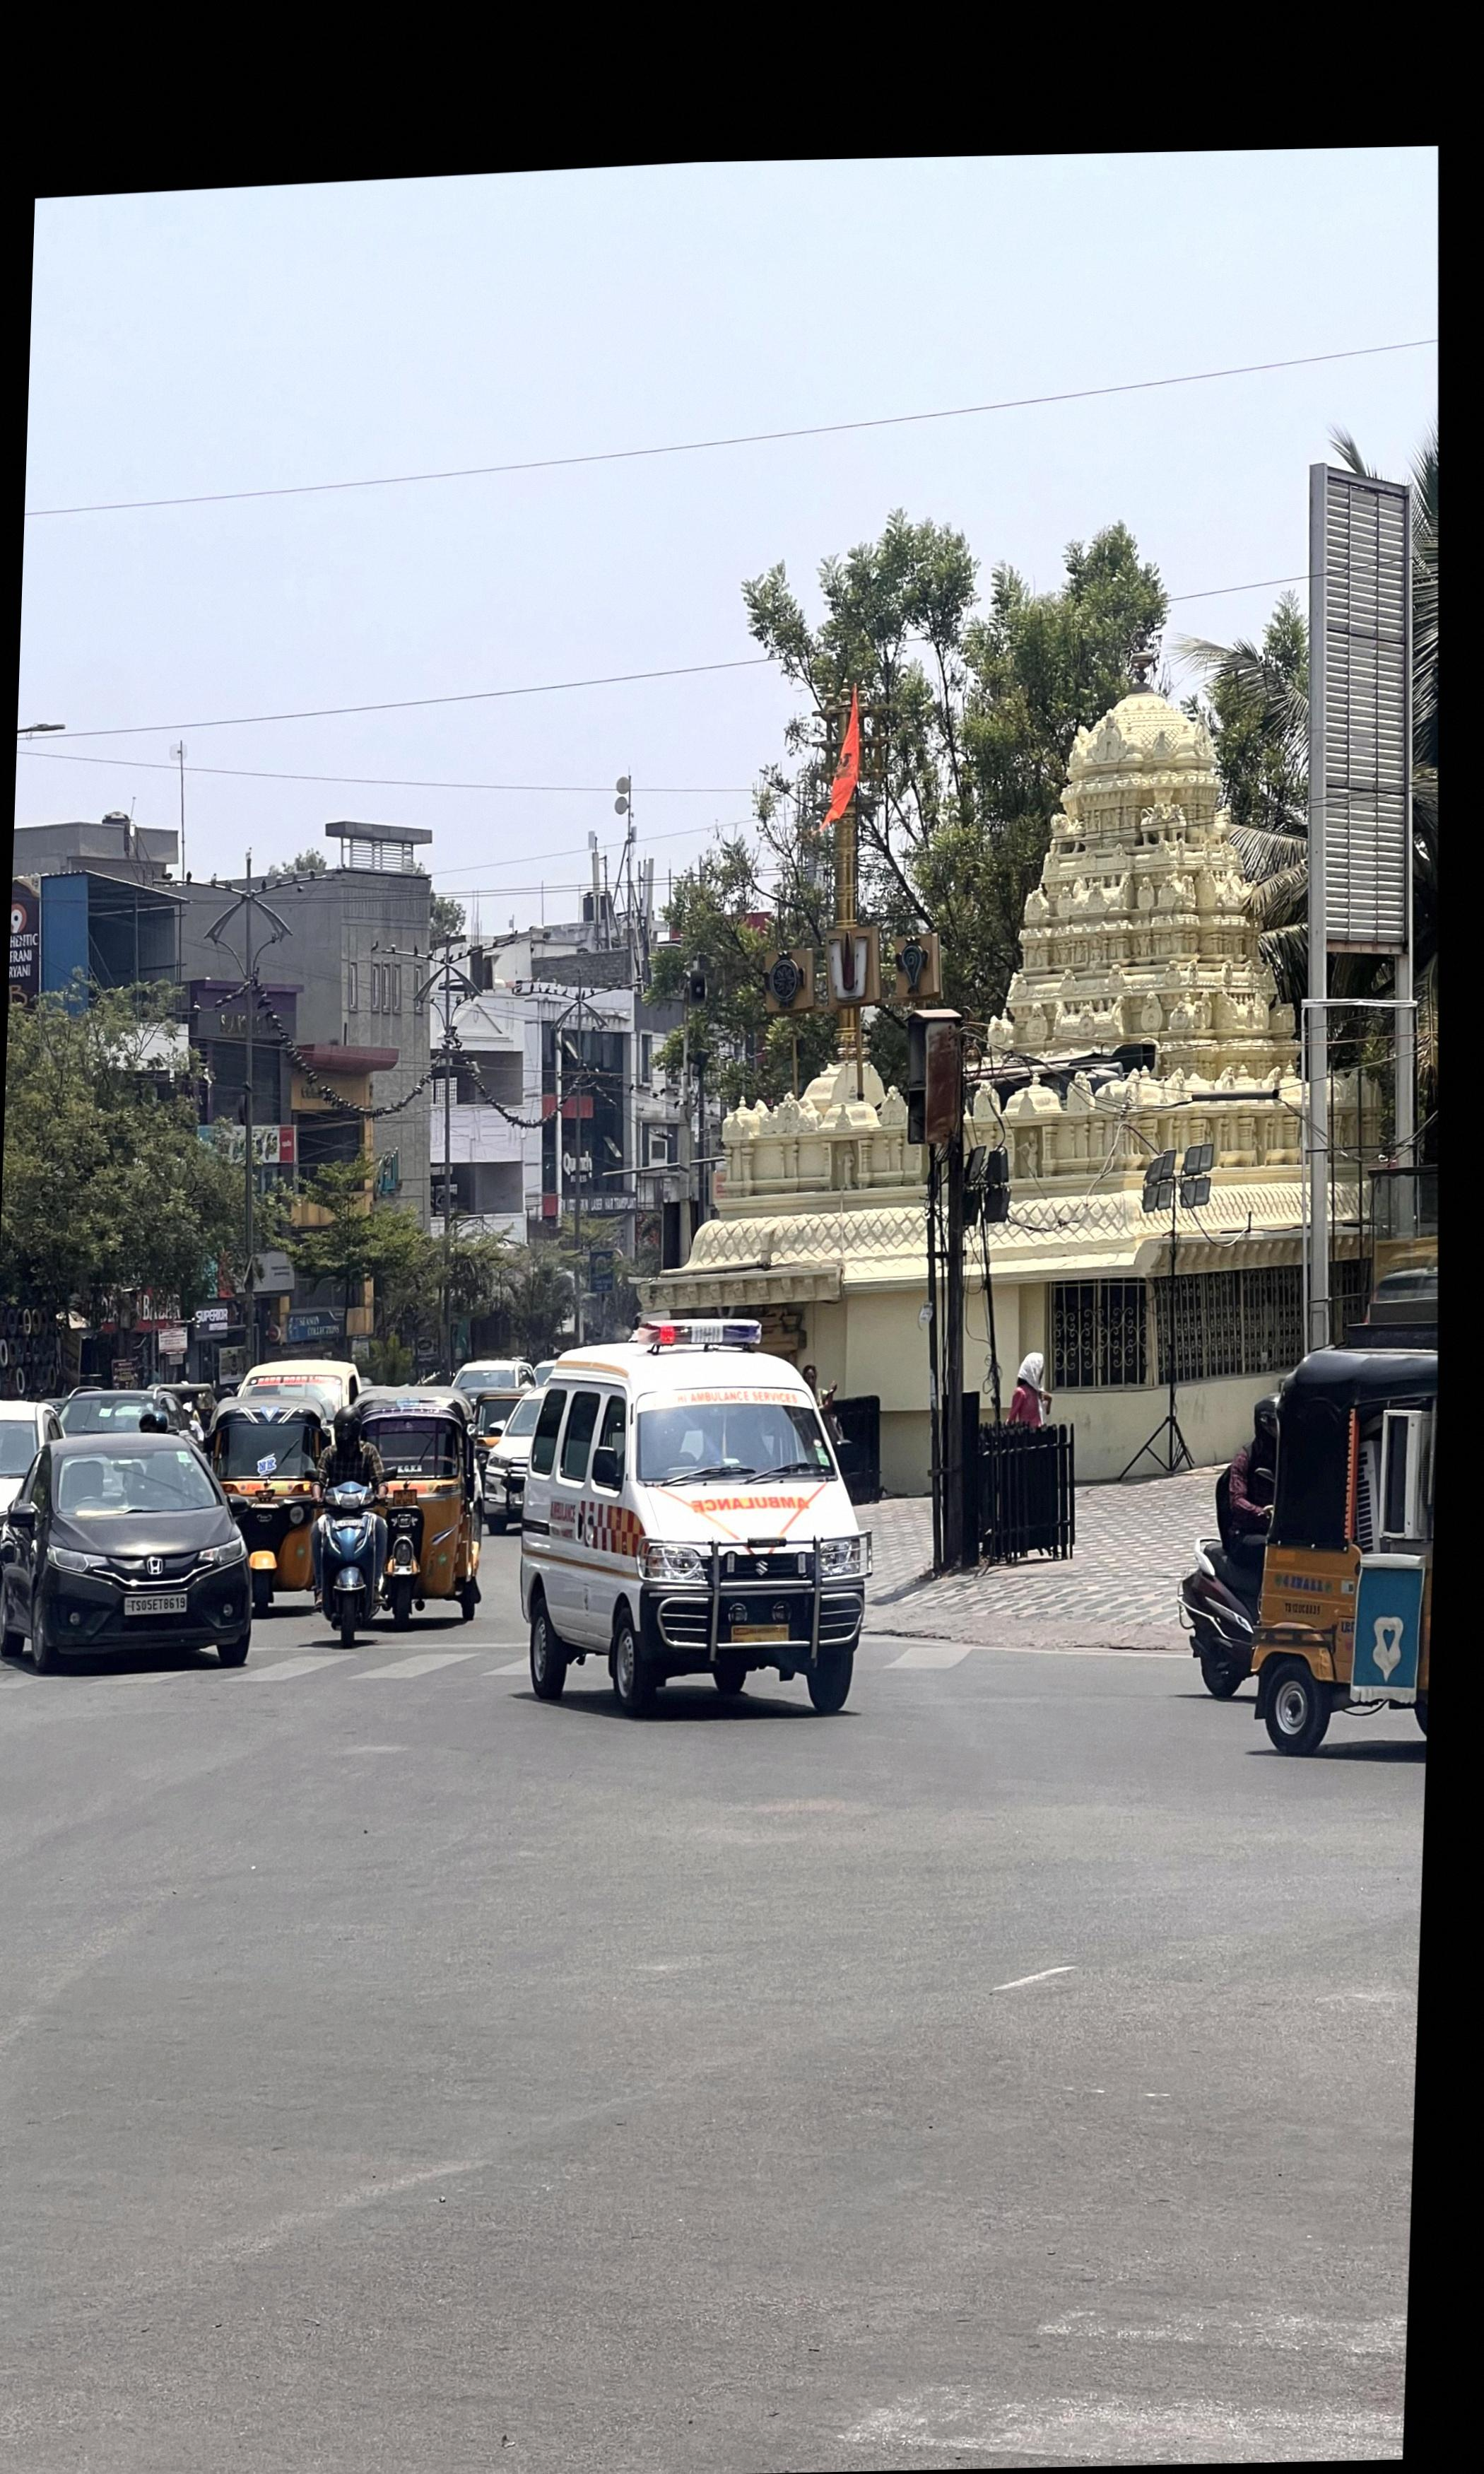ambulance: (526, 1322, 864, 1709)
